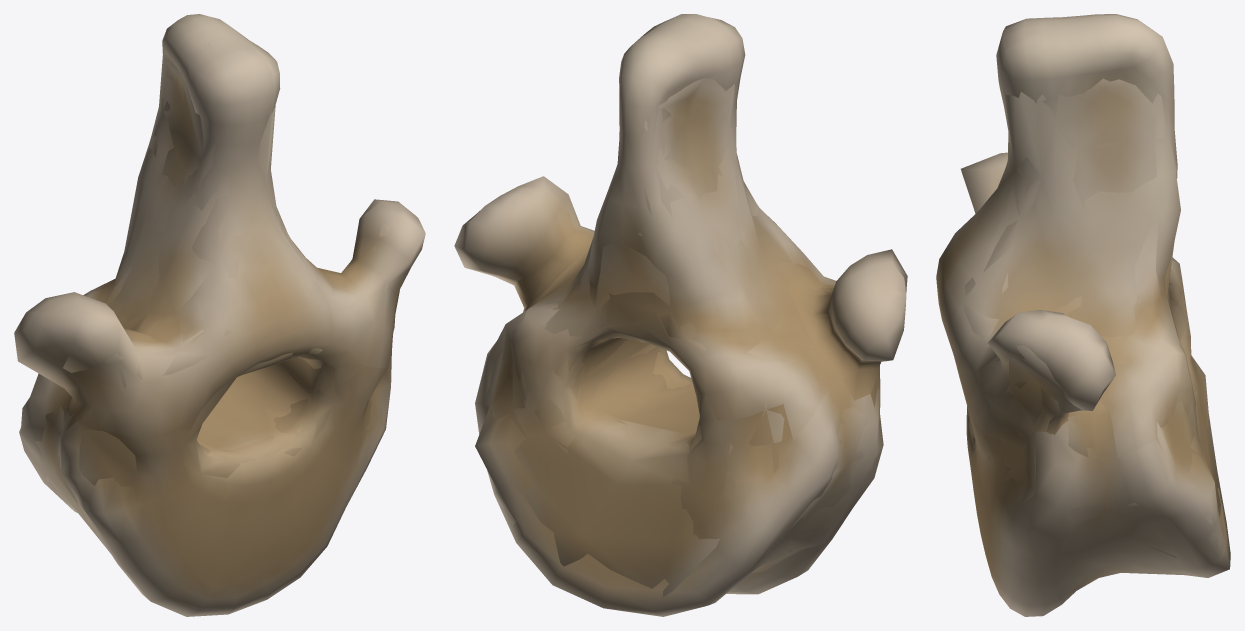
Rendered from vertebrae thoracicae 17.fbx.
The picture shows the model from 3 angles, left to right: view 1: azimuth 30°, elevation 25°; view 2: azimuth 150°, elevation 25°; view 3: azimuth 270°, elevation 25°; orthographic projection. The views are drawn at different scales.
Visible parts, largest first — view 1: vertebrae thoracicae 17, vertebrae thoracicae 17 low; view 2: vertebrae thoracicae 17, vertebrae thoracicae 17 low; view 3: vertebrae thoracicae 17, vertebrae thoracicae 17 low.
Part boxes in pixels (x1,y1,x2,y2): vertebrae thoracicae 17: (14, 14, 425, 616); vertebrae thoracicae 17 low: (35, 42, 410, 553); vertebrae thoracicae 17: (454, 14, 907, 616); vertebrae thoracicae 17 low: (484, 32, 876, 597); vertebrae thoracicae 17: (936, 14, 1230, 616); vertebrae thoracicae 17 low: (964, 18, 1222, 580).
Bounding box in the file's own units: 8.4 × 11 × 4.97.
Materials: 1 (1 with a texture image).
